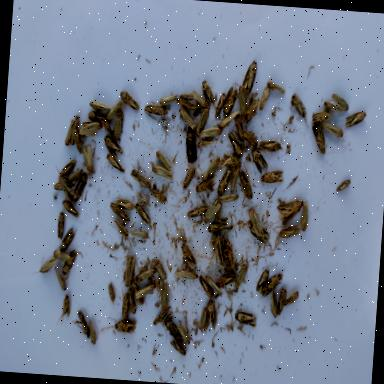pbw: (342, 106, 368, 136), (233, 81, 251, 122), (220, 83, 238, 123), (231, 260, 251, 294), (80, 142, 100, 176), (310, 126, 329, 160), (58, 248, 78, 280), (176, 243, 198, 272), (261, 271, 283, 300), (176, 104, 202, 128), (206, 214, 228, 241), (254, 86, 273, 117), (195, 269, 214, 300), (288, 93, 308, 122), (133, 260, 157, 284), (156, 280, 174, 312), (204, 192, 222, 224), (278, 222, 302, 246), (157, 84, 179, 110), (232, 306, 258, 328), (260, 167, 286, 189), (226, 132, 246, 160), (236, 169, 254, 200), (132, 200, 154, 225), (188, 90, 210, 115), (104, 130, 126, 154), (202, 273, 224, 297), (150, 303, 169, 330), (133, 278, 156, 300), (70, 174, 88, 202), (256, 136, 284, 154), (144, 101, 168, 122), (279, 288, 300, 312), (104, 202, 129, 222), (245, 220, 271, 239), (78, 113, 100, 135), (118, 88, 140, 110), (34, 254, 56, 276), (104, 150, 128, 170), (111, 110, 125, 144), (74, 310, 90, 339), (58, 230, 76, 255), (298, 200, 312, 232), (63, 118, 80, 144), (247, 208, 264, 234), (129, 170, 151, 190), (248, 146, 268, 168), (203, 297, 218, 326), (116, 291, 130, 322), (150, 164, 174, 182), (56, 160, 76, 181), (152, 149, 173, 169), (252, 268, 268, 294), (88, 97, 111, 115), (125, 252, 136, 289), (199, 81, 217, 103), (85, 319, 99, 347), (185, 205, 208, 222), (201, 123, 224, 140), (124, 290, 142, 311), (174, 323, 192, 344), (324, 120, 345, 138), (214, 91, 227, 119), (52, 268, 70, 288), (276, 286, 288, 316), (150, 258, 168, 278), (168, 337, 186, 356), (180, 164, 195, 186), (331, 93, 348, 112), (52, 247, 78, 259), (58, 294, 72, 316), (54, 213, 65, 241), (114, 198, 136, 212), (335, 176, 351, 195), (63, 201, 80, 218), (266, 81, 286, 95), (53, 179, 74, 192), (176, 269, 198, 281), (269, 290, 277, 318)
